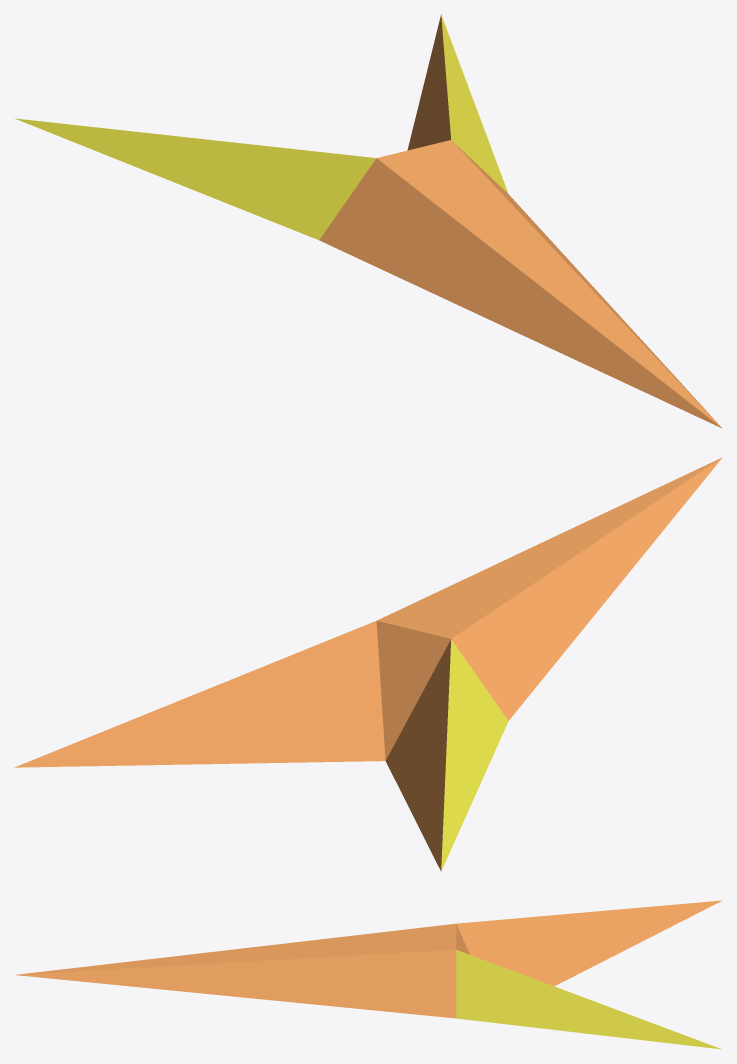
File: Antibody_low.fbx
3 renders of one model, top to bottom at view 1: azimuth 30°, elevation 25°; view 2: azimuth 150°, elevation 25°; view 3: azimuth 270°, elevation 25°, orthographic. The views are drawn at different scales.
Visible parts, largest first — view 1: antibody_LOW; view 2: antibody_LOW; view 3: antibody_LOW.
Part boxes in pixels (x1,y1,x2,y2): antibody_LOW: (14, 14, 722, 428); antibody_LOW: (14, 457, 722, 871); antibody_LOW: (15, 900, 722, 1049).
Bounding box in the file's own units: 0.2707 × 0.067 × 0.5438.
